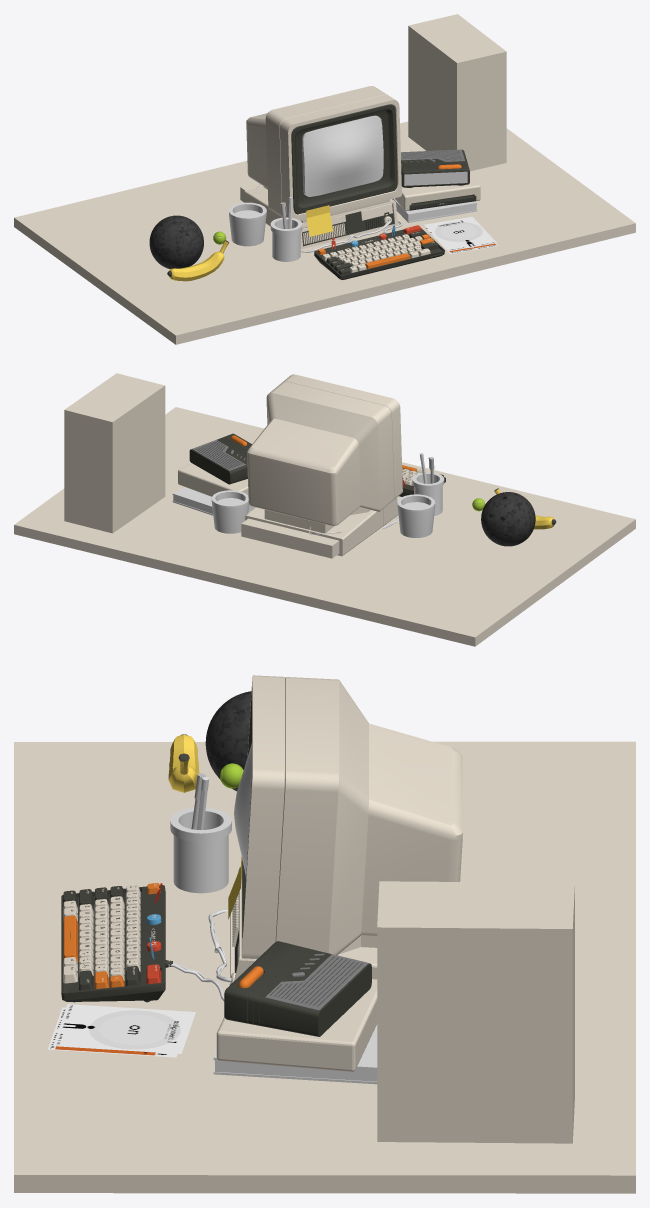
File: Game Scene.fbx
3 renders of one model, top to bottom at view 1: azimuth 30°, elevation 25°; view 2: azimuth 150°, elevation 25°; view 3: azimuth 270°, elevation 25°, orthographic. The views are drawn at different scales.
Visible parts, largest first — view 1: Plane.002, Cube.132, Cube.138, Cube.085, Cube.131, Bowling Ball, Cube.041, Cube.144, Plane.005, Cylinder.014, Cube.153, Cylinder005 (+4 smaller); view 2: Plane.002, Cube.138, Cube.132, Cube.131, Bowling Ball, Cube.144, Cylinder.014, Cylinder.012, Cube.041, Cylinder005, Cube.067; view 3: Plane.002, Cube.132, Cube.138, Cube.144, Cube.041, Plane.005, Cube.153, Cylinder005, Bowling Ball, Cube.067, Cube.131, Cube.145 (+2 smaller).
Boxes of the visible parts, x1,y1,x2,y2 form: Plane.002: (14,121,635,344); Cube.132: (408,14,506,171); Cube.138: (246,86,401,222); Cube.085: (302,115,383,196); Cube.131: (240,183,397,249); Bowling Ball: (149,215,203,269); Cube.041: (395,173,480,211); Cube.144: (401,149,469,187); Plane.005: (424,216,496,251); Cylinder.014: (229,202,266,246); Cube.153: (314,228,444,279); Cylinder005: (270,217,302,261); Plane.002: (14,407,635,646); Cube.138: (247,374,402,533); Cube.132: (64,373,165,533); Cube.131: (241,498,398,558); Bowling Ball: (481,492,535,546); Cube.144: (189,433,251,484); Cylinder.014: (397,494,435,537); Cylinder.012: (211,490,249,533); Cube.041: (178,463,248,496); Cylinder005: (412,472,444,515); Cube.067: (172,487,254,515); Plane.002: (14,741,635,1193); Cube.132: (377,881,574,1143); Cube.138: (241,675,462,959); Cube.144: (224,941,371,1036); Cube.041: (216,979,377,1071); Plane.005: (53,1004,195,1053); Cube.153: (61,885,172,1002); Cylinder005: (170,807,231,893); Bowling Ball: (205,691,251,791); Cube.067: (213,1024,377,1084); Cube.131: (230,867,377,980); Cube.145: (168,734,199,792).
Size of the model in its own units: 4940 by 8156 by 2221.
